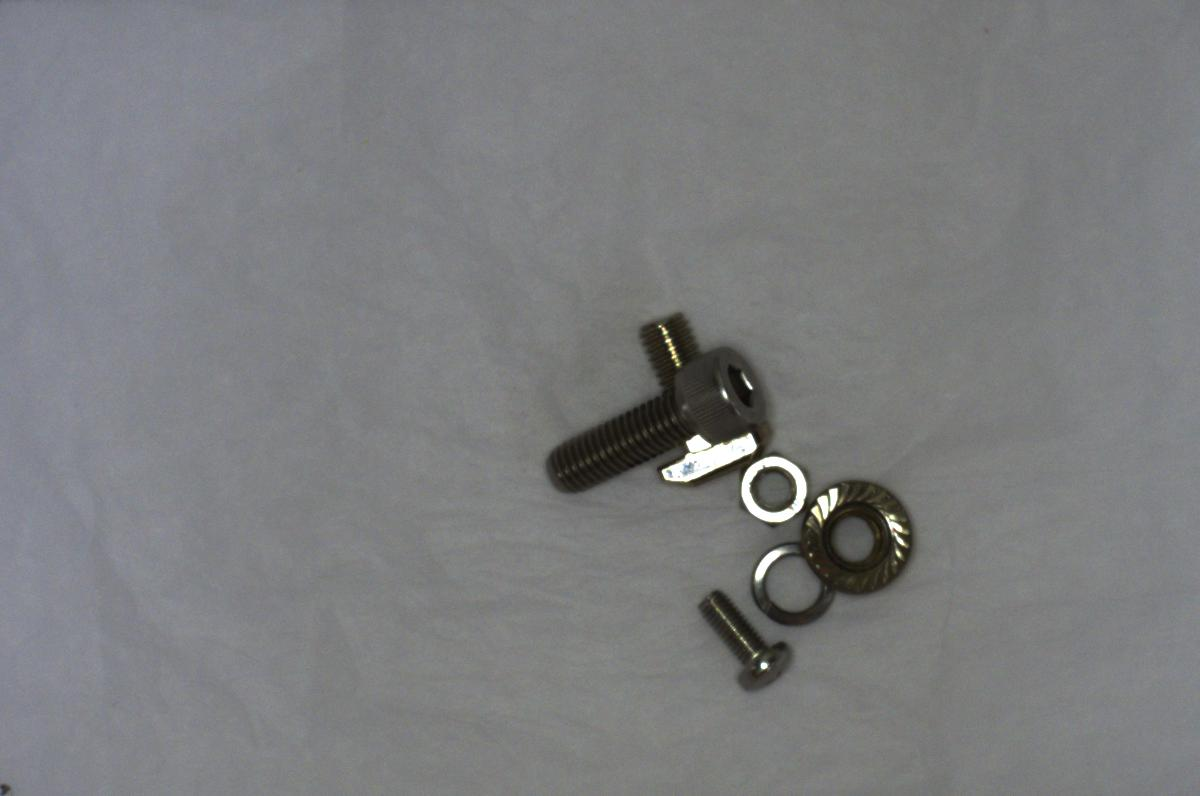Flange nut: (800, 472, 923, 599)
Hexagon nut: (735, 446, 812, 531)
Hexagon screw: (551, 333, 765, 500)
Round head screw: (697, 586, 797, 689)
Spring washer: (743, 536, 842, 632)
T-shaped screw: (628, 304, 767, 485)
